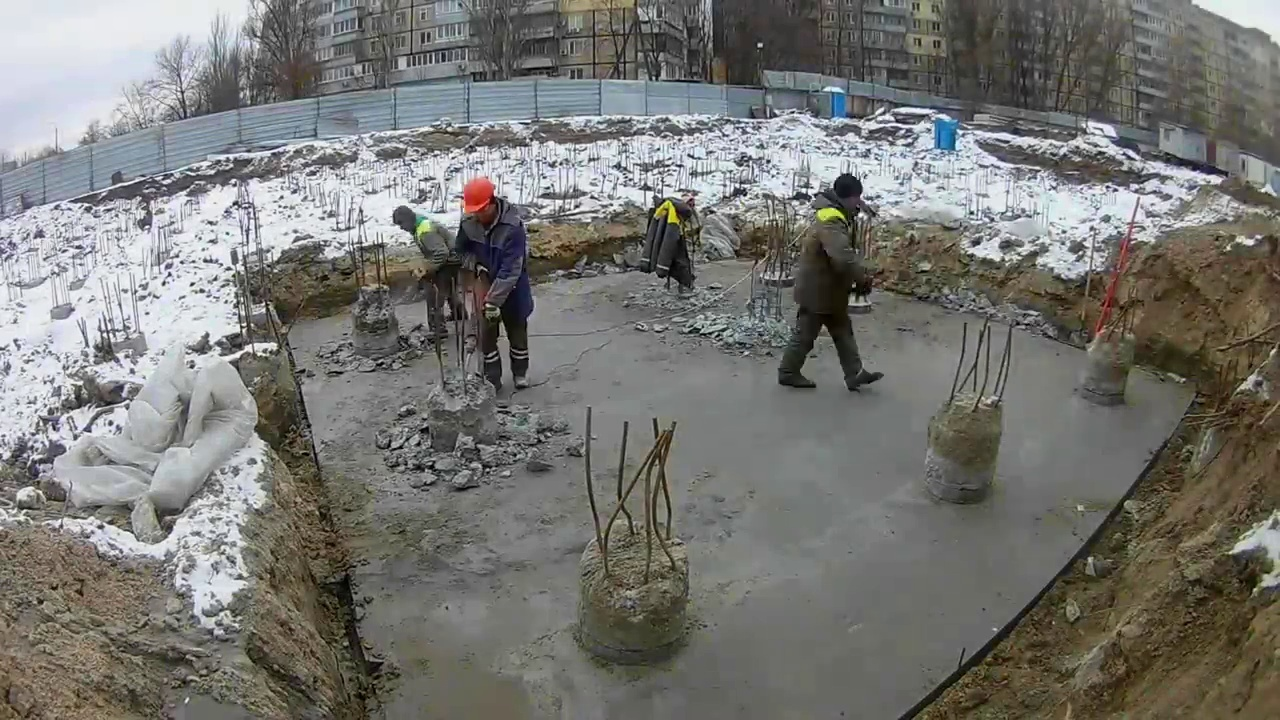helmet: (457, 178, 494, 212)
helmet-off: (828, 175, 866, 215), (393, 204, 421, 238)
helmet-on: (457, 177, 498, 219)
person: (775, 169, 881, 396), (449, 177, 536, 391), (392, 205, 473, 344)
